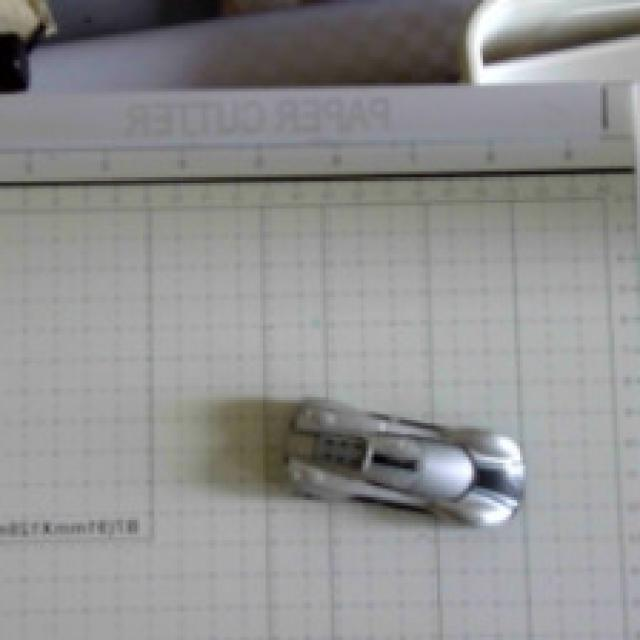Grey Car: (254, 364, 551, 556)
